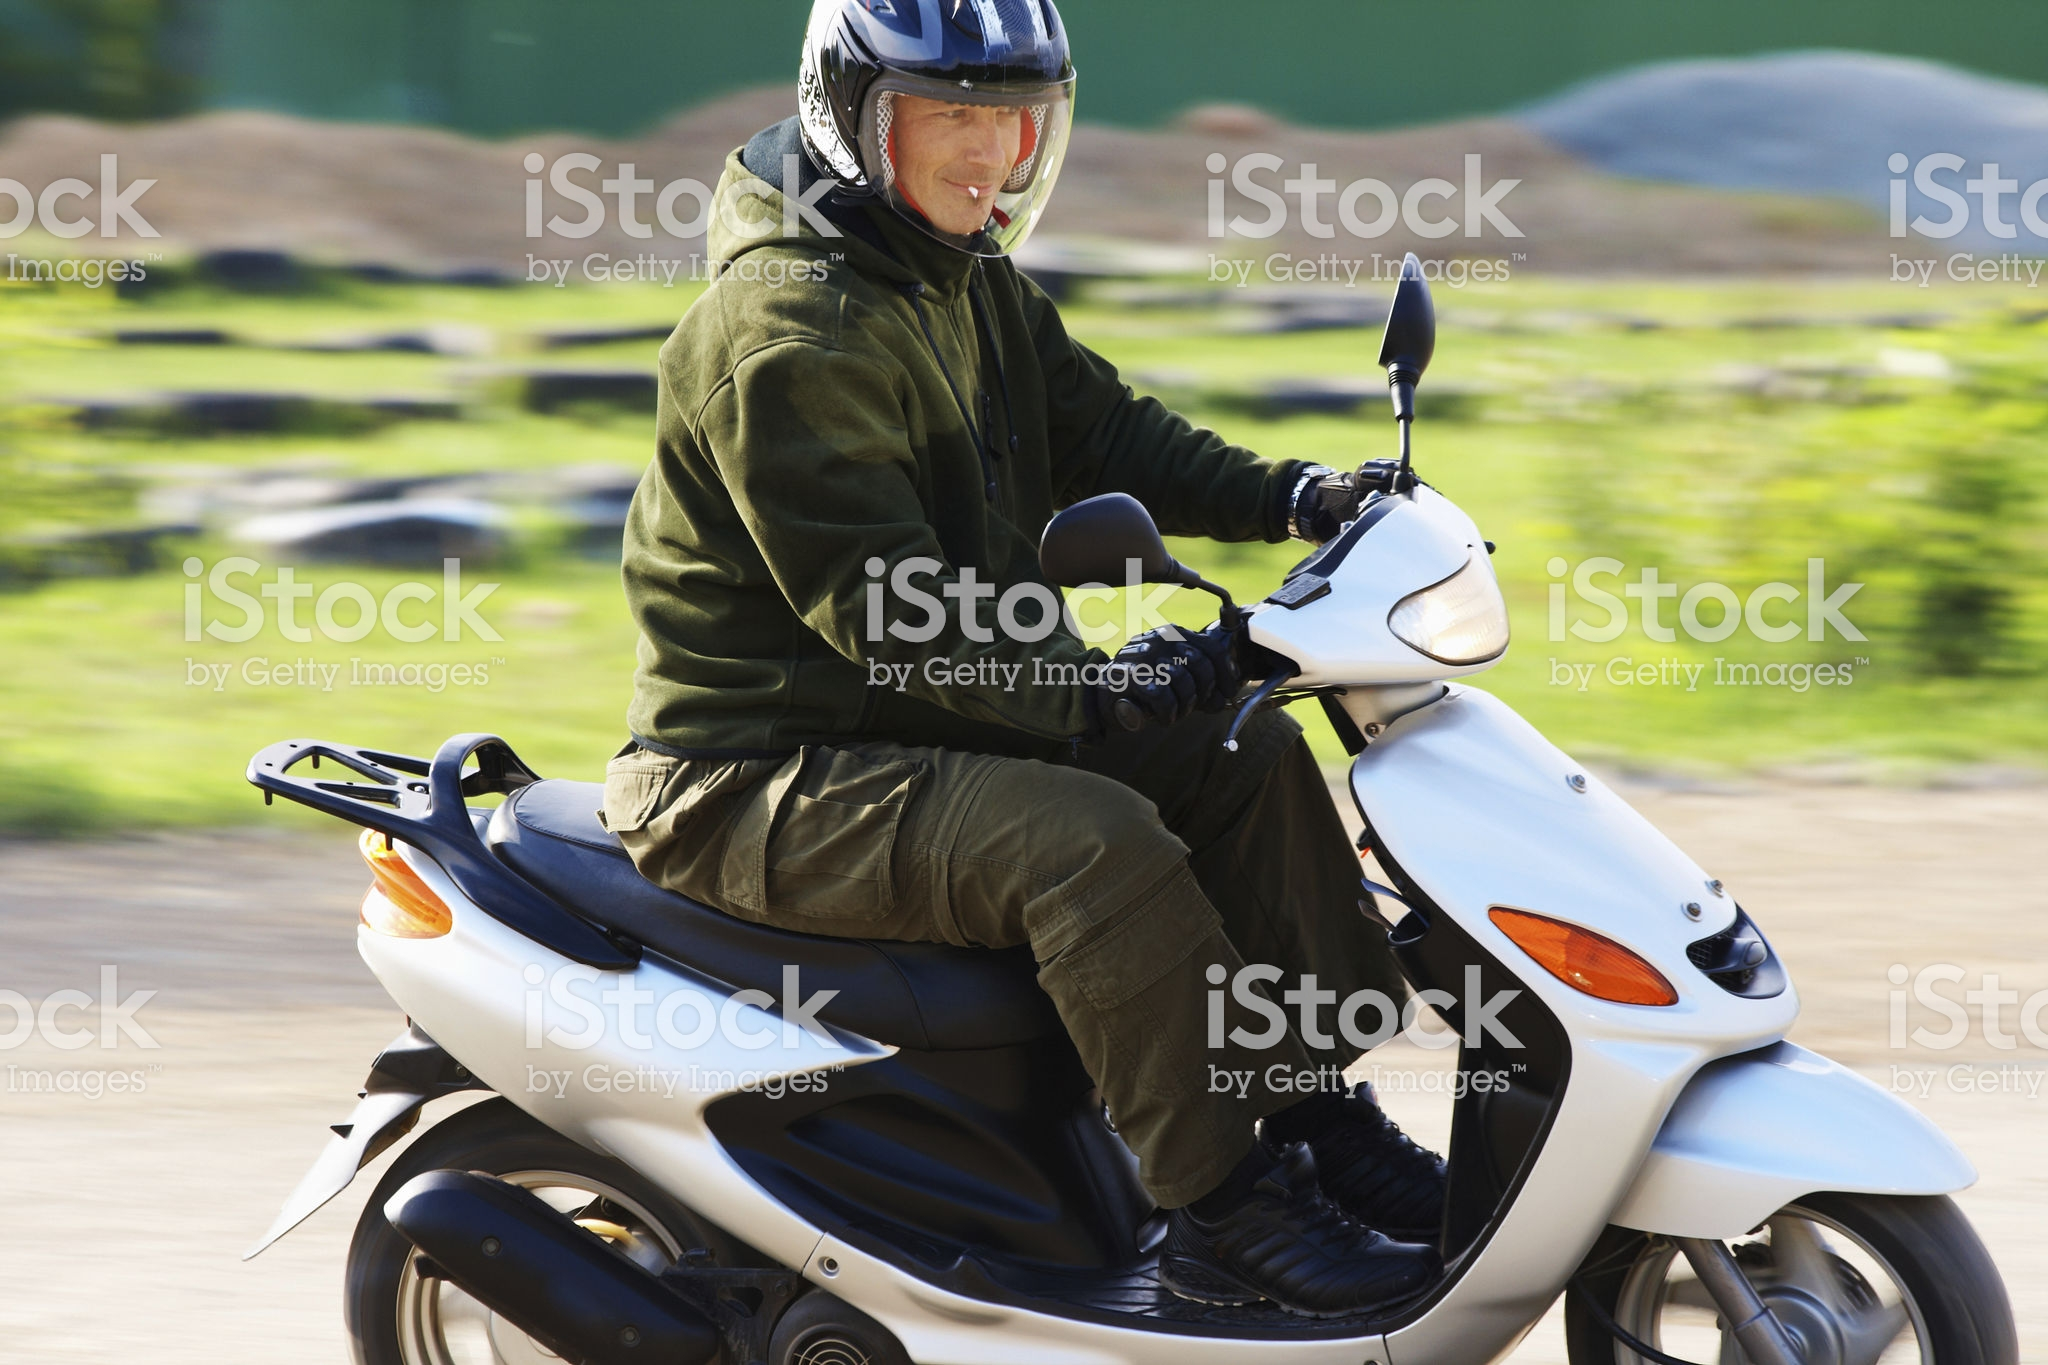helmet: (789, 15, 1113, 248)
